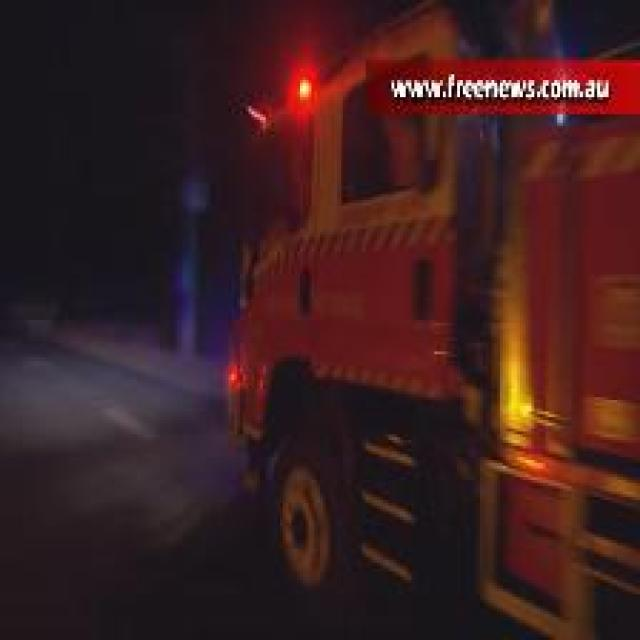other: (486, 256, 548, 450), (260, 48, 332, 123)
